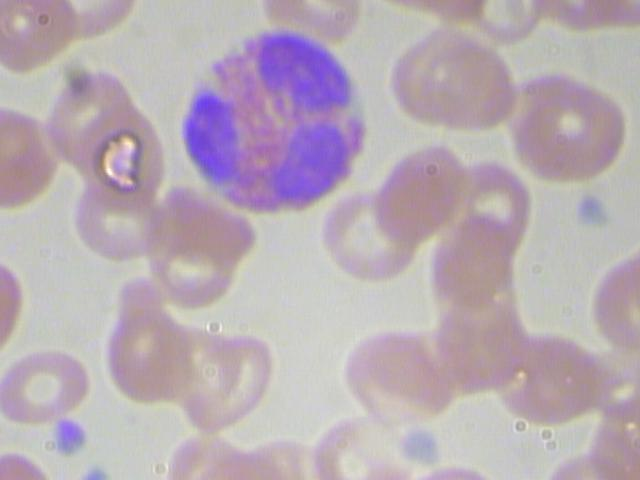Platelets: (568, 190, 613, 236), (47, 418, 95, 453)
RBC: (386, 25, 524, 143), (512, 73, 629, 189), (70, 97, 173, 217), (182, 330, 286, 437), (371, 140, 474, 243), (102, 299, 195, 409), (319, 190, 426, 283), (70, 176, 170, 269), (0, 337, 92, 429)
WBC: (173, 17, 378, 221)
